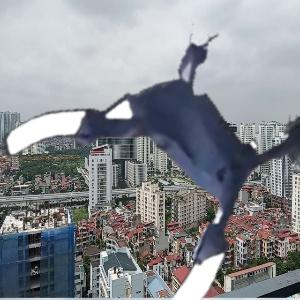drone: (18, 14, 299, 295)
